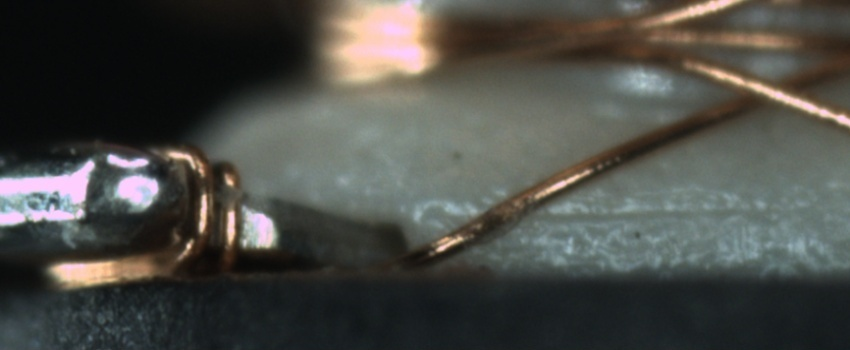CL: (708, 63, 833, 117)
DL: (412, 182, 849, 242)
TE: (45, 131, 253, 292)
